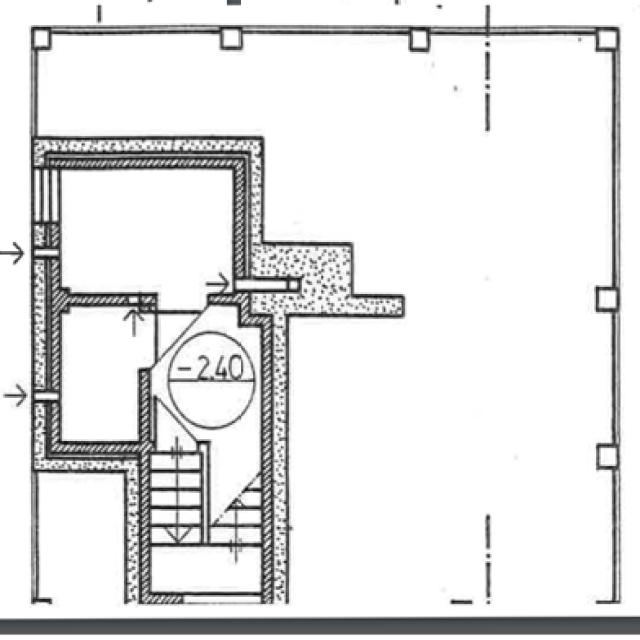door: (167, 419, 283, 536), (117, 275, 213, 374), (144, 390, 212, 461)
window: (33, 167, 68, 244)
